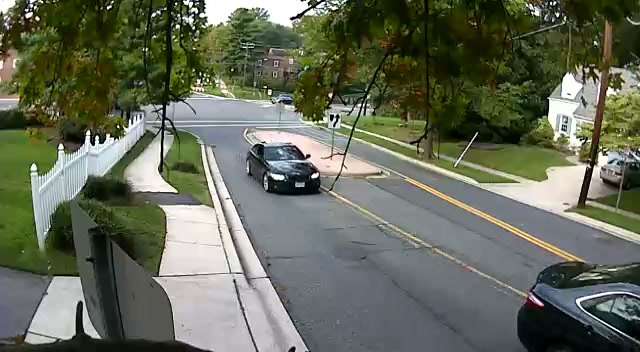car: (516, 261, 639, 352), (245, 141, 321, 194), (600, 151, 640, 188), (276, 93, 292, 104)
